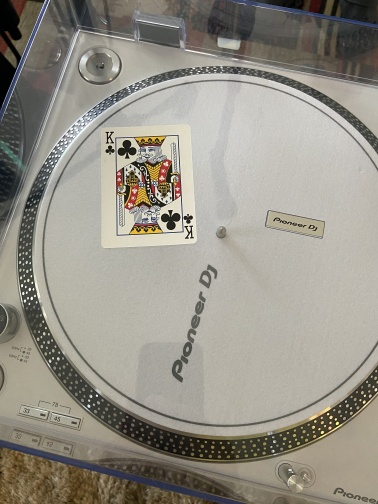king: (99, 122, 198, 249)
